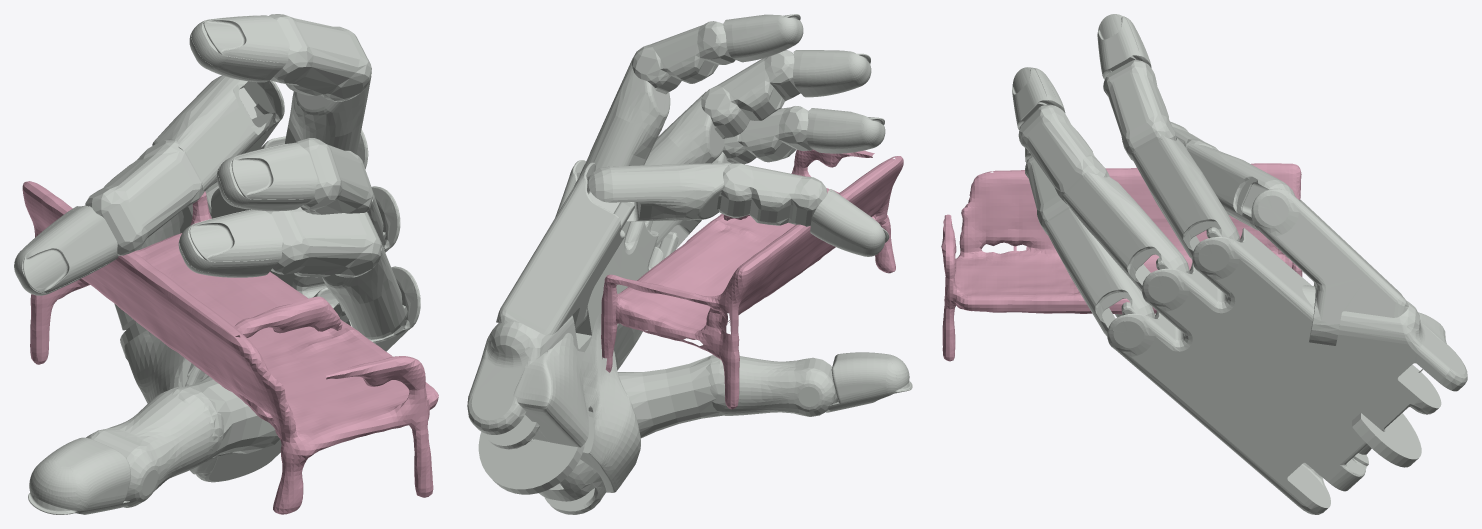
3 renders of one model, left to right at view 1: azimuth 30°, elevation 25°; view 2: azimuth 150°, elevation 25°; view 3: azimuth 270°, elevation 25°, orthographic. The views are drawn at different scales.
Visible parts, largest first — view 1: hand_isaac_q, world; view 2: hand_isaac_q, world; view 3: hand_isaac_q, world.
Part boxes in pixels (x1,y1,x2,y2): hand_isaac_q: (14, 14, 420, 514); world: (22, 181, 438, 514); hand_isaac_q: (467, 14, 912, 514); world: (601, 149, 903, 409); hand_isaac_q: (1012, 14, 1467, 514); world: (941, 163, 1302, 361).
Size of the model in its own units: 0.1212 by 0.1757 by 0.1907.
